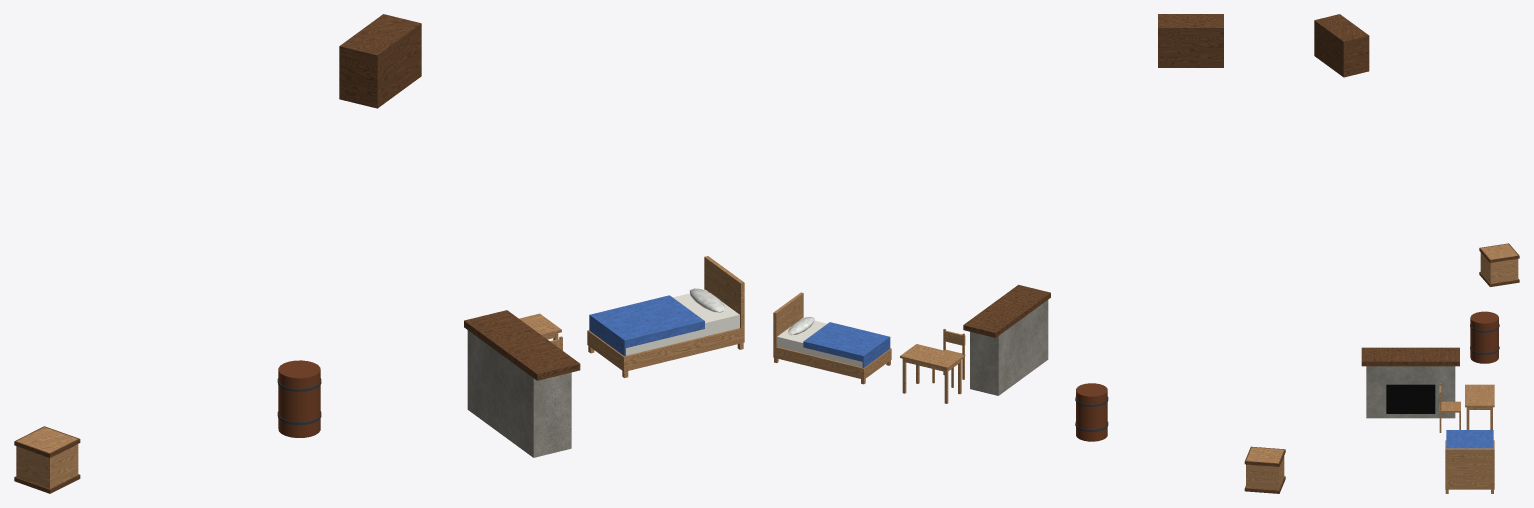
File: i_lighthouse_cape.gltf
3 renders of one model, left to right at view 1: azimuth 30°, elevation 25°; view 2: azimuth 150°, elevation 25°; view 3: azimuth 270°, elevation 25°, orthographic. The views are drawn at different scales.
Visible parts, largest first — view 1: I_lighthouse_cape; view 2: I_lighthouse_cape; view 3: I_lighthouse_cape.
Part boxes in pixels (bbox=[...]): I_lighthouse_cape: bbox=[14, 14, 744, 493]; I_lighthouse_cape: bbox=[773, 14, 1285, 493]; I_lighthouse_cape: bbox=[1314, 14, 1519, 493].
Size of the model in its own units: 10.76 by 7.2 by 4.17.
10 materials, 5 textured.
